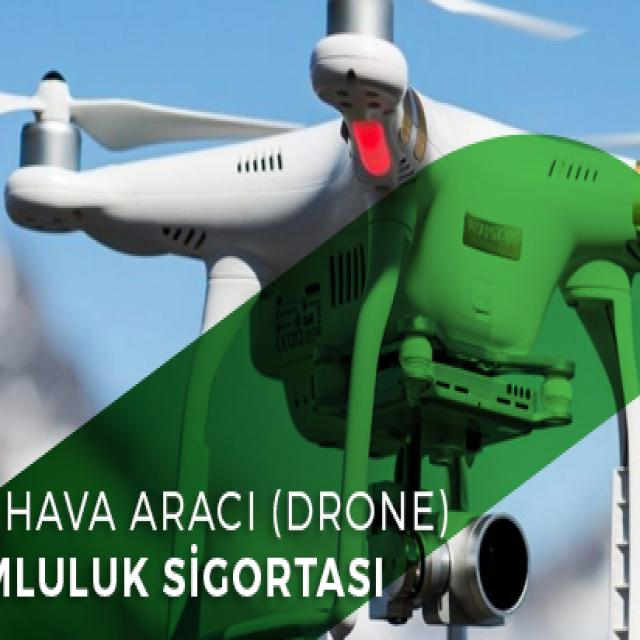drone: (0, 0, 640, 510)
